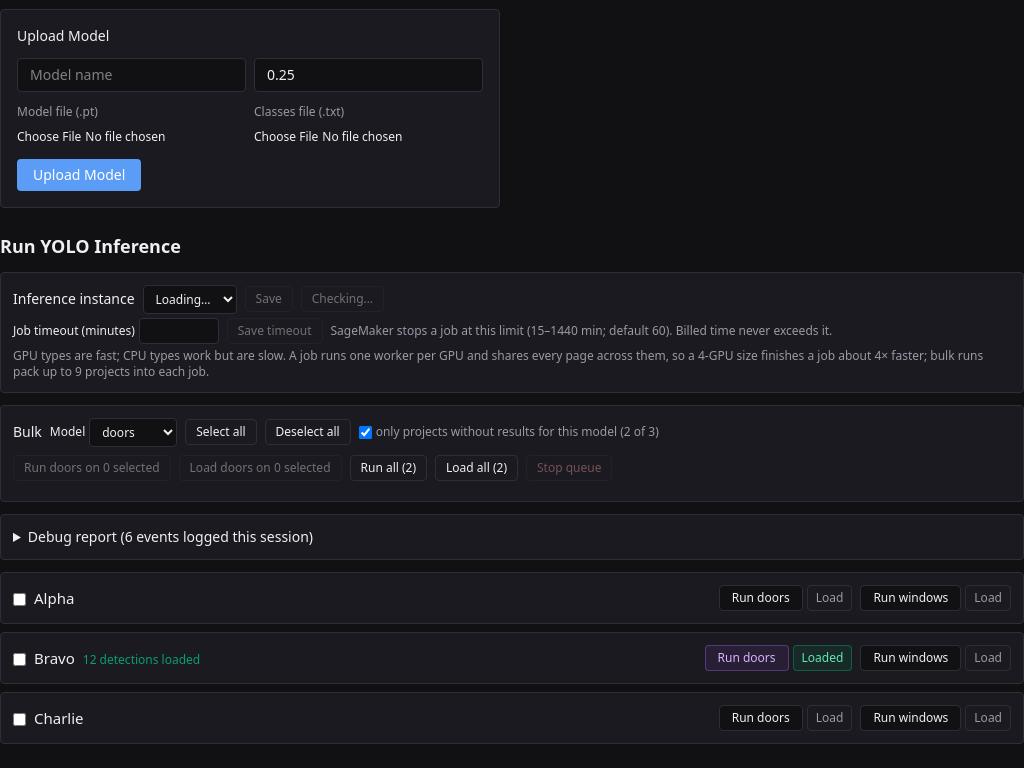
Scenario: YoloBulkBar in AiModelsTab › Load all loads every candidate one at a time without a confirmation or any run
(page scrolled)
Click the button "Load all (2)" at point(477, 468), box x1=435 y1=455 x2=518 y2=481
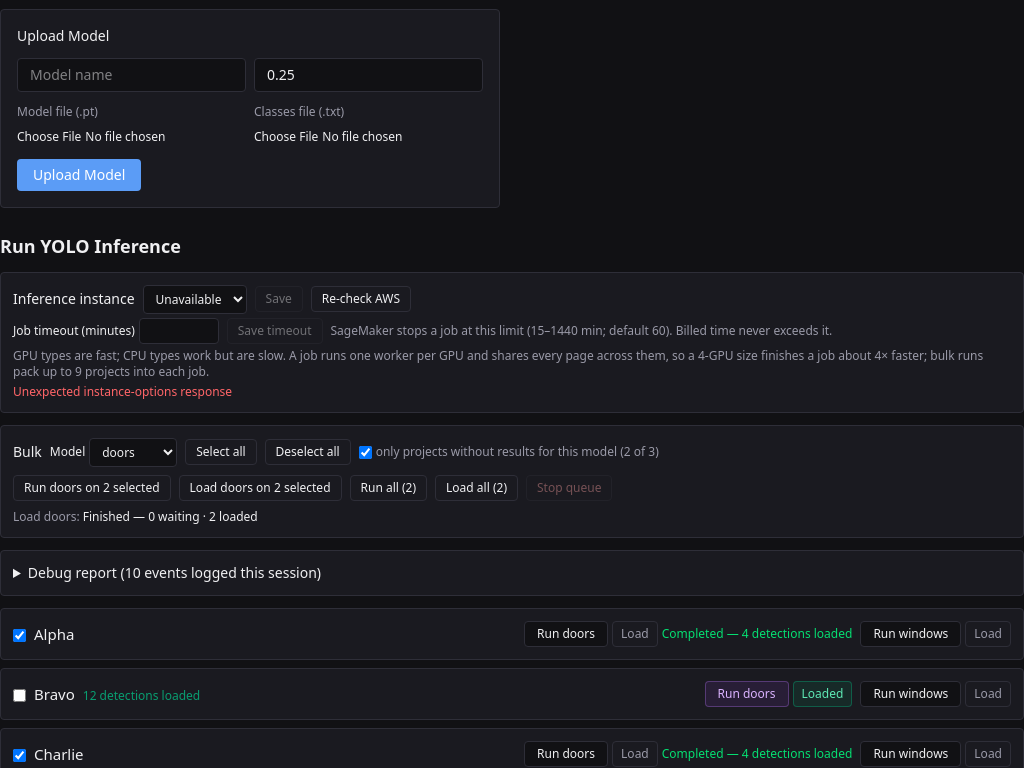
Now the element with test id "yolo-bulk-summary" shows "Finished — 0 waiting · 2 loaded", box x1=83 y1=508 x2=258 y2=525
